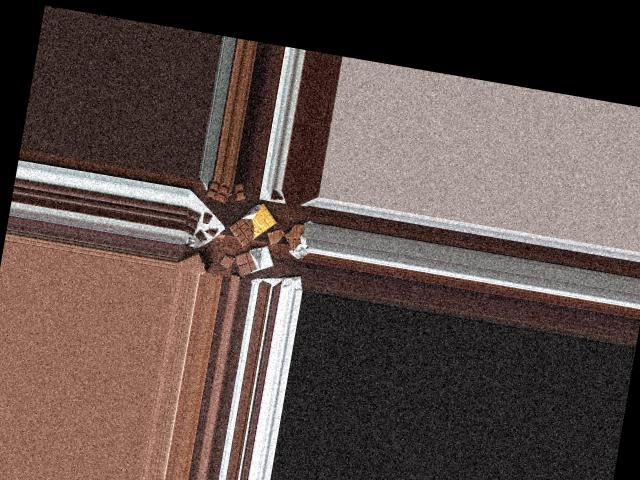chocolate: (231, 239, 274, 283)
